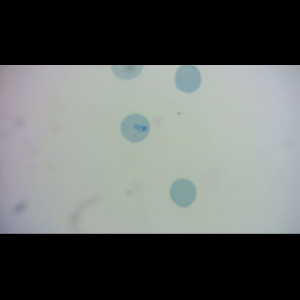aggregate reticulocyte: (120, 113, 151, 143)
erythrocyte: (174, 65, 203, 94), (169, 178, 197, 207)
